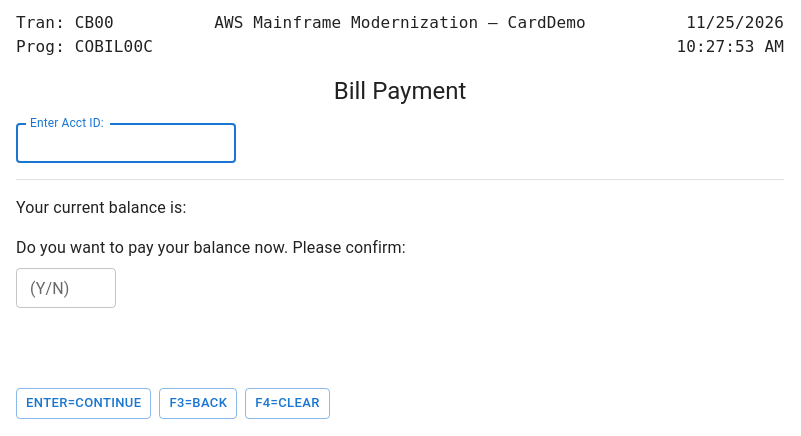
Scenario: CB00 COBIL00C / COBIL0A › WRITE-TRANSACT-FILE: success clears the map and shows the transaction id in green
Type "00000000042" into the field labelled "Enter Acct ID" at (126, 143), box [16, 123, 236, 163]
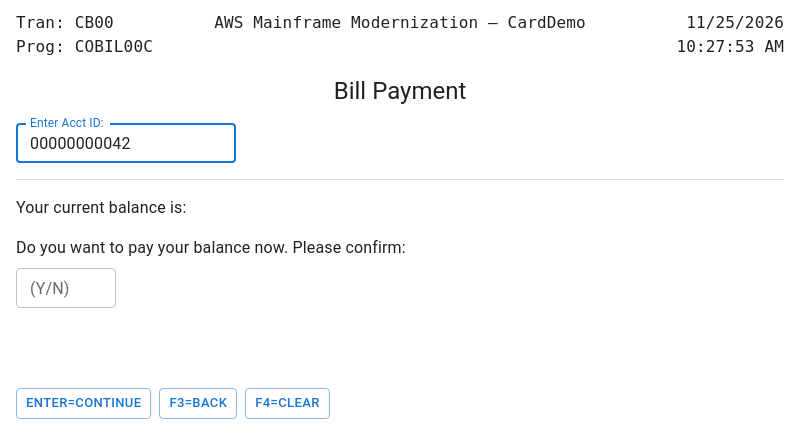
Type "Y" into the field named "Confirm (Y/N)" at (66, 288), box [16, 268, 116, 308]
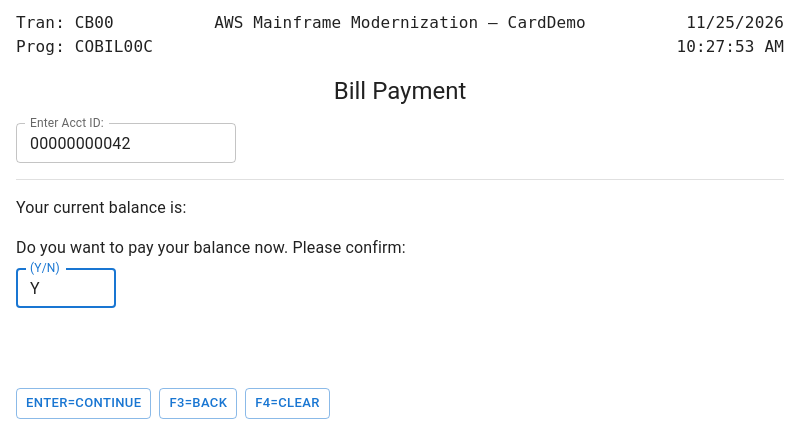
Click the button "ENTER=Continue" at (84, 403), box [16, 388, 151, 419]
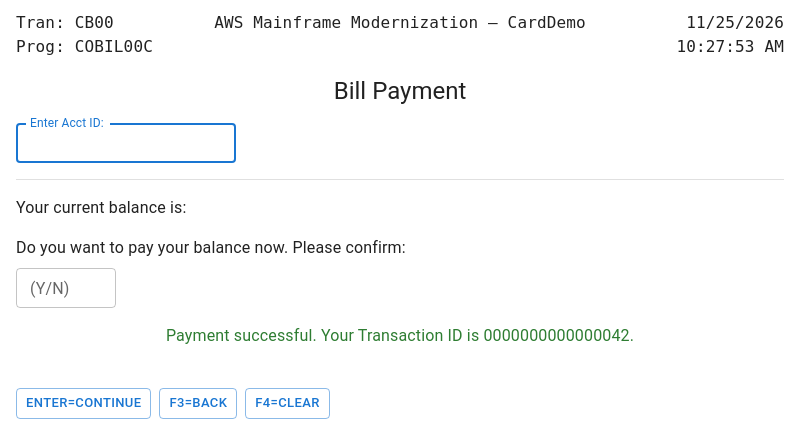
expect the text with test id "infomsg" reads "Payment successful. Your Transaction ID is 0000000000000042.": met, box [166, 326, 634, 345]
expect the field labelled "Enter Acct ID" is empty: met, box [16, 123, 236, 163]
expect the field named "Confirm (Y/N)" is empty: met, box [16, 268, 116, 308]
